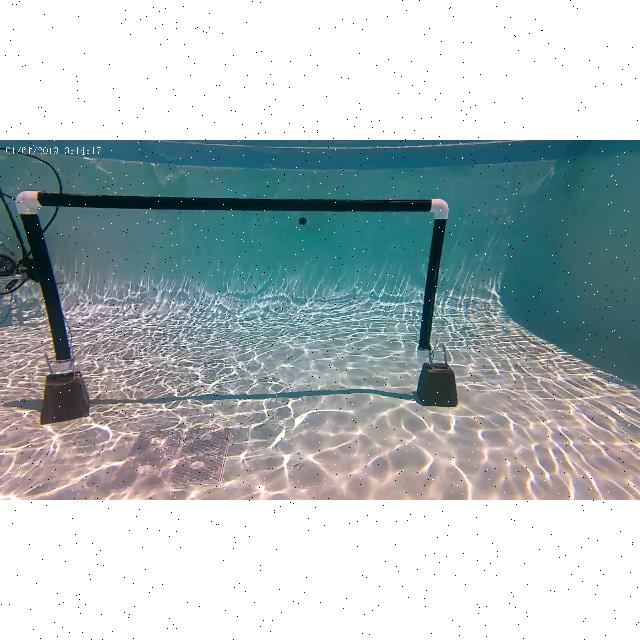prequal gate: (17, 190, 449, 374)
prequal gate leg l: (13, 189, 87, 379)
prequal gate leg r: (414, 192, 452, 370)
